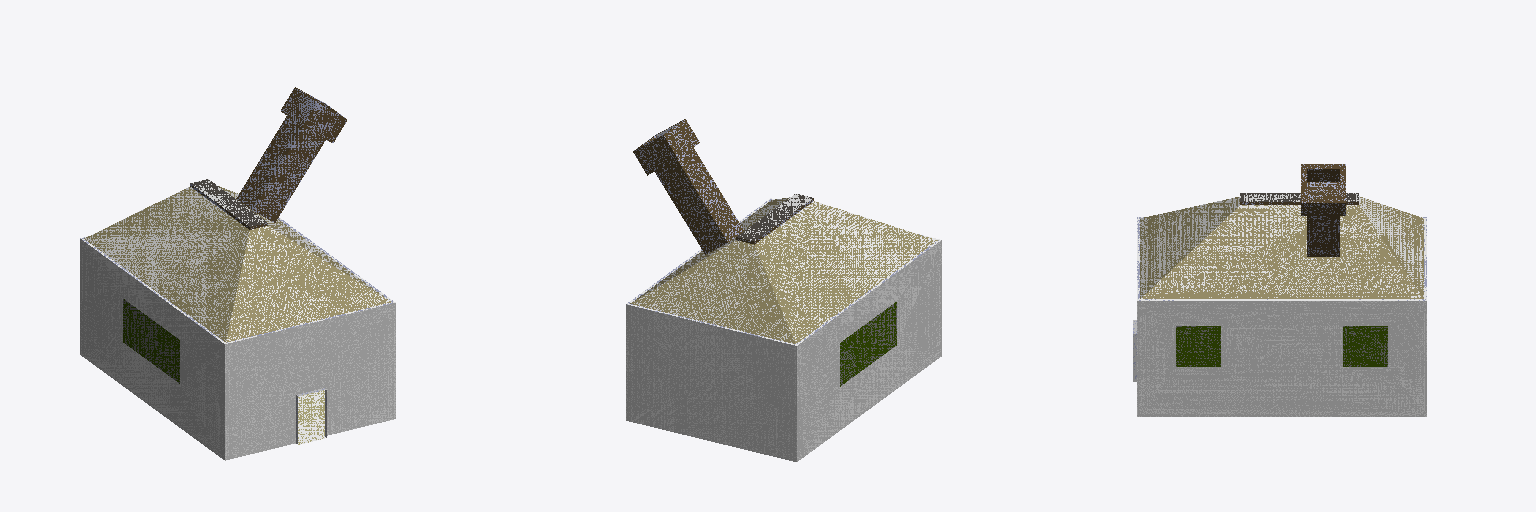
The model's file is house.obj.
The picture shows the model from 3 angles: view 1: azimuth 30°, elevation 25°; view 2: azimuth 150°, elevation 25°; view 3: azimuth 270°, elevation 25°; orthographic projection.
Parts seen in each view (by area): view 1: Mesh1 Model; view 2: Mesh1 Model; view 3: Mesh1 Model.
Part boxes in pixels (x1,y1,x2,y2): Mesh1 Model: (80, 87, 395, 460); Mesh1 Model: (626, 119, 941, 461); Mesh1 Model: (1133, 164, 1426, 416).
Size of the model in its own units: 7.8 by 9.28 by 9.71.